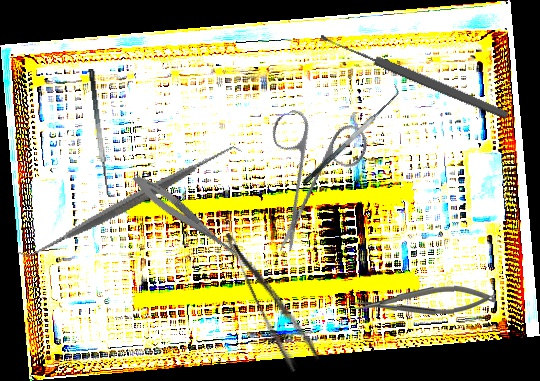Dressing Forceps: (222, 221, 321, 374)
Iris Scissors: (224, 85, 397, 256)
Micro Scissor: (128, 169, 247, 264)
Needle Holder: (353, 284, 498, 317)
Spatula Surgical: (16, 86, 243, 318), (294, 83, 406, 186), (87, 67, 119, 199)
Surgical Spoon: (318, 31, 510, 121)
